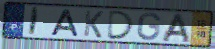A: (160, 12, 192, 44), (49, 9, 80, 38)
D: (106, 10, 136, 41)
G: (136, 12, 162, 42)
I: (28, 6, 41, 37)
K: (83, 9, 106, 39)
